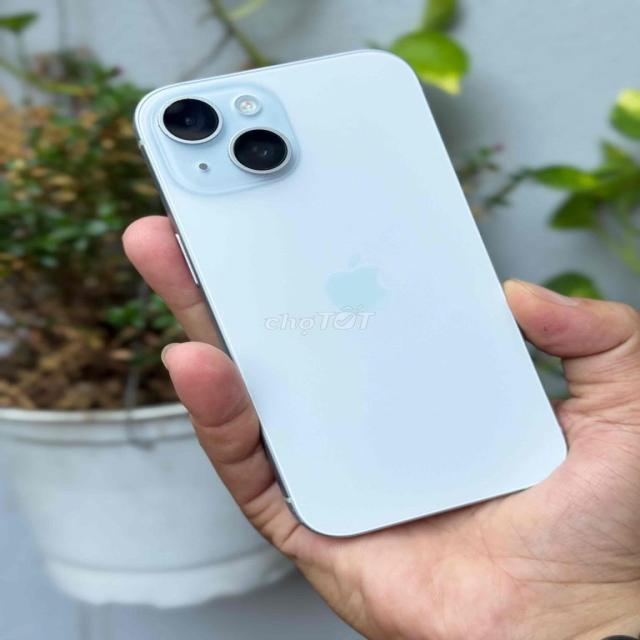gen_15: (137, 51, 580, 534)
